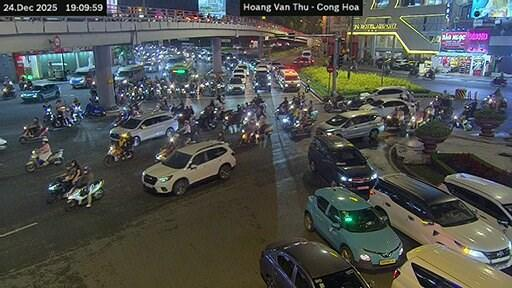motorbike: (154, 130, 198, 161), (67, 179, 102, 210), (25, 148, 63, 171), (451, 100, 476, 130), (102, 144, 133, 166), (155, 134, 178, 160), (423, 99, 451, 120), (45, 176, 67, 202), (19, 126, 48, 143), (290, 118, 313, 139), (480, 94, 505, 111), (451, 113, 473, 130), (198, 111, 216, 130), (85, 99, 105, 116), (112, 108, 130, 125), (323, 99, 345, 112), (70, 103, 83, 124), (281, 112, 294, 130), (42, 106, 54, 124), (345, 97, 364, 108), (489, 76, 505, 85), (3, 85, 13, 99), (19, 81, 31, 90), (423, 72, 434, 79), (409, 68, 418, 76), (0, 138, 6, 149)
